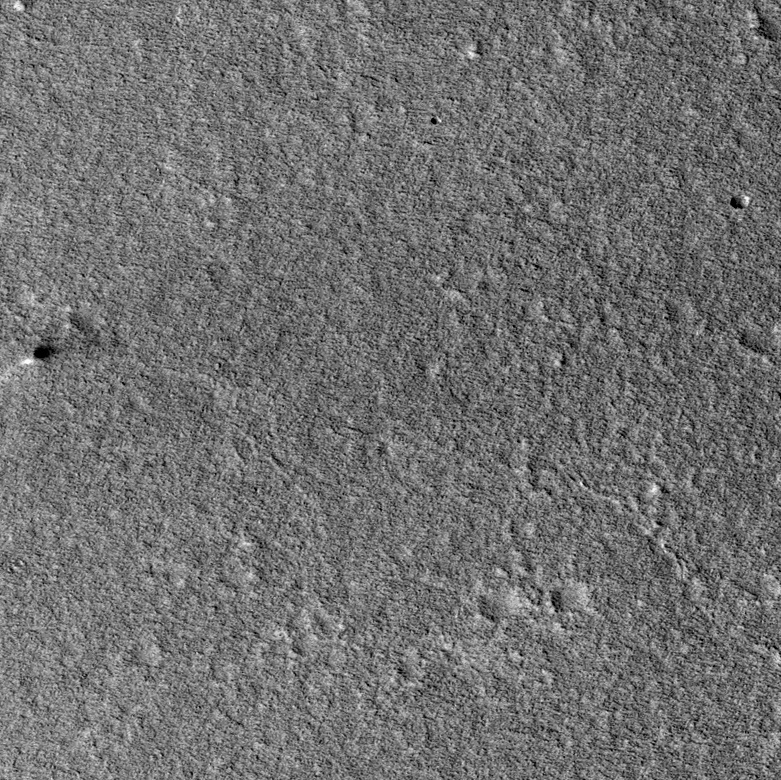dust_devil: (19, 343, 62, 366)
